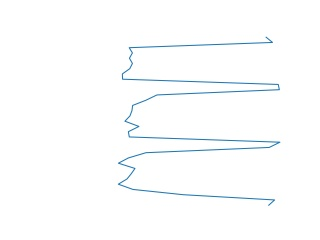majorRiverChannelBar: (114, 37, 285, 205)
